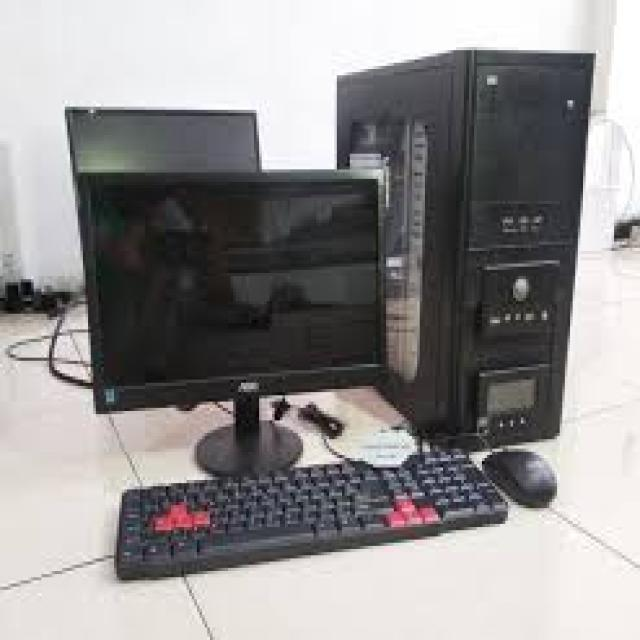monitor: (69, 158, 398, 480)
